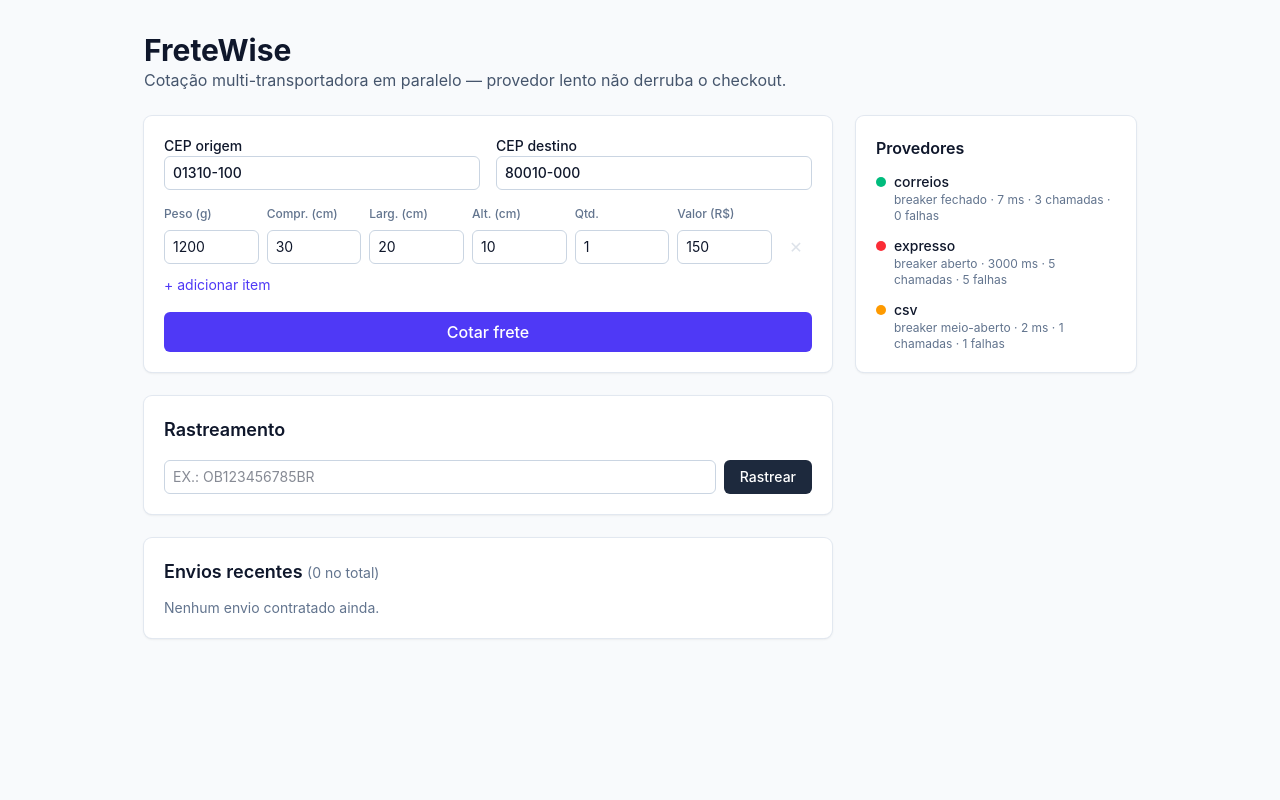
it: <App /> › fluxo completo: cotar exibe a tabela e atualiza o status dos provedores
This screenshot has width=1280, height=800.
Expected: the heading "FreteWise" is shown, [144, 32, 291, 68]
Step 1. Click the button "Cotar frete" → (488, 332), box [164, 312, 812, 352]
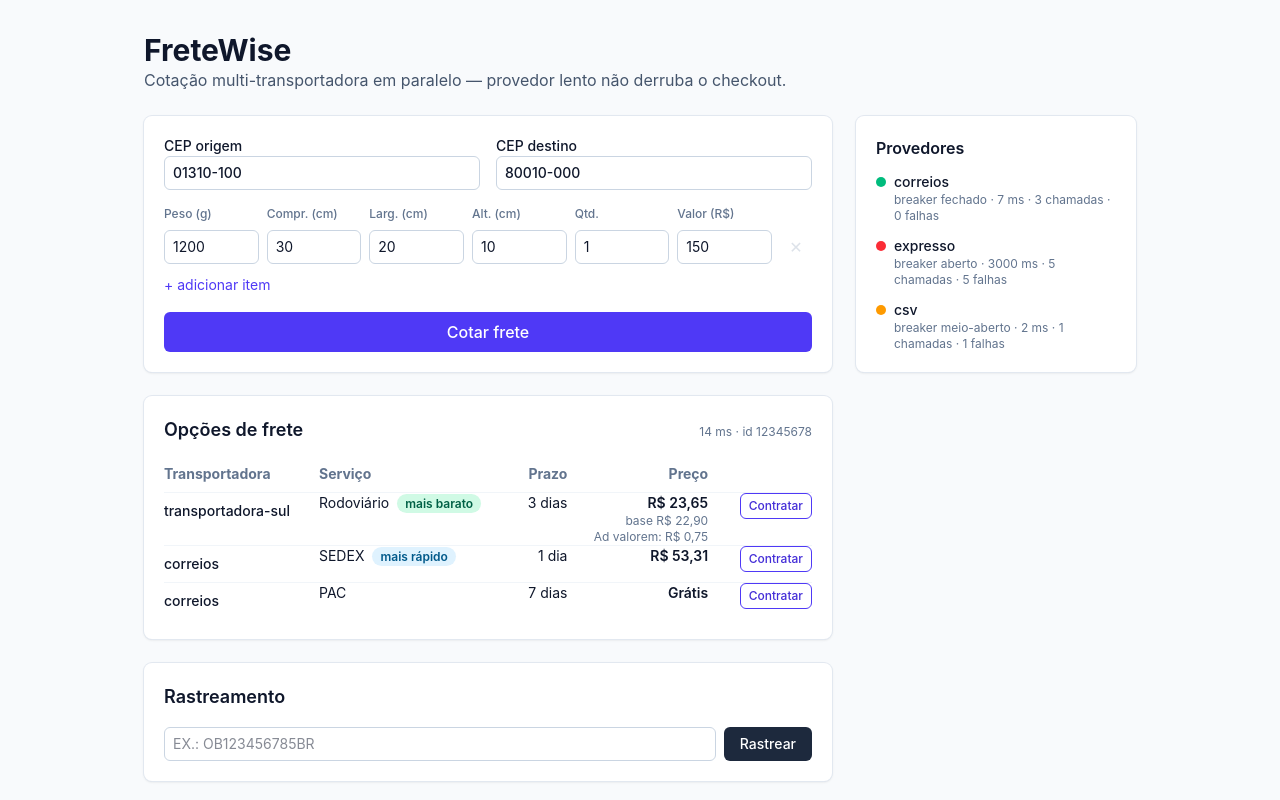
Expected: the heading "Opções de frete" is shown, [164, 416, 303, 444]
Expected: the text "mais barato" is shown, [397, 494, 481, 513]
